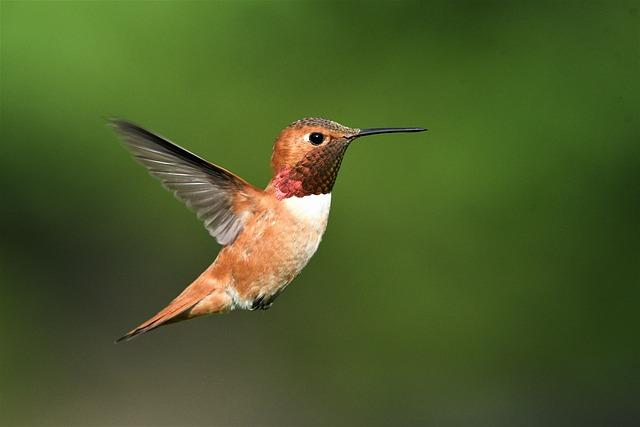Non_Gorille: (42, 1, 578, 424)
